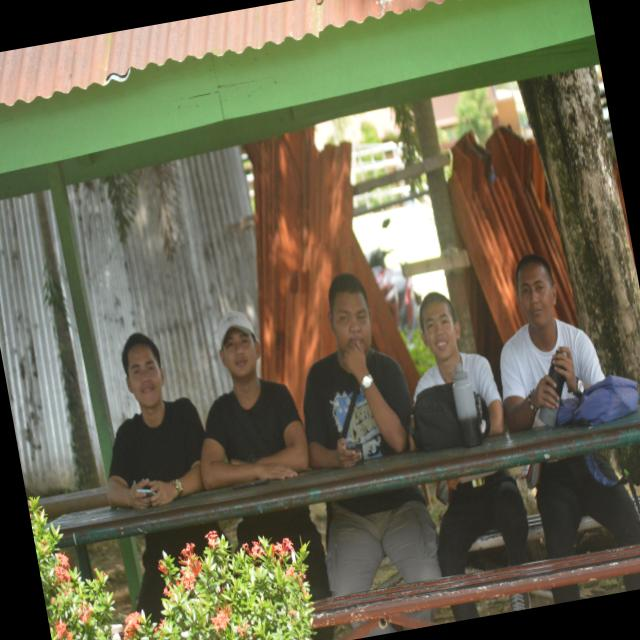person: (304, 273, 412, 468), (201, 311, 309, 489), (501, 255, 604, 431), (108, 333, 204, 509), (415, 292, 504, 435)
